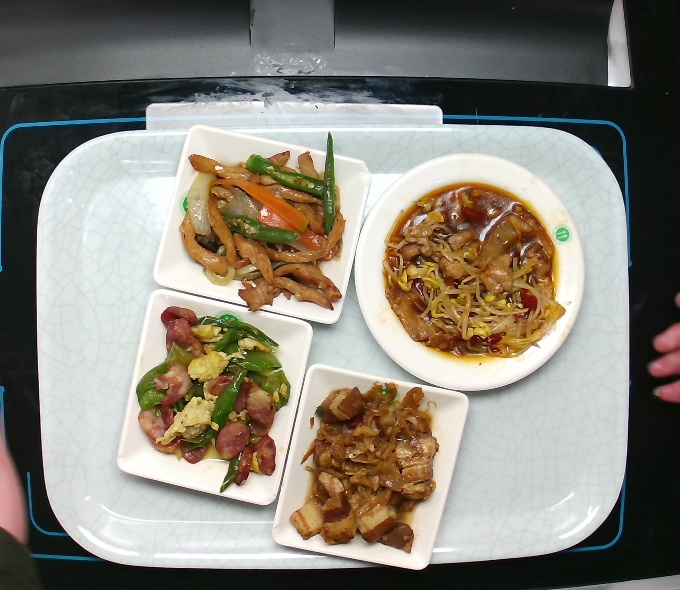wcq-HongShaoRou: (280, 376, 448, 559)
wcq-QingJiaoJiDanChaoDaChang: (131, 299, 294, 497)
wcq-QingJiaoRouSi: (176, 127, 354, 316)
wcq-ShuiZhuRouPian: (373, 171, 569, 369)
